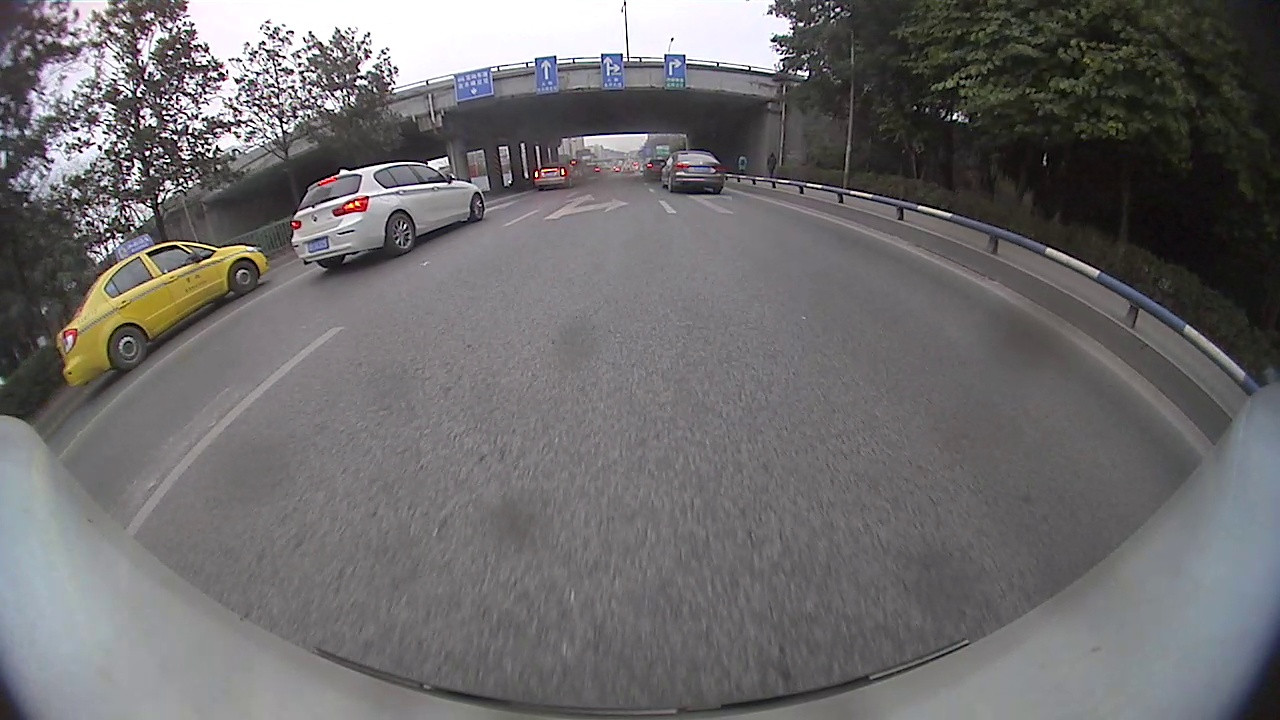car: (52, 238, 273, 392), (286, 157, 489, 272), (659, 148, 727, 197), (530, 159, 581, 194)
front: (229, 261, 260, 296), (469, 194, 488, 225)
person: (767, 151, 778, 178), (738, 152, 748, 176)
rear: (106, 326, 147, 370), (384, 211, 416, 256)
